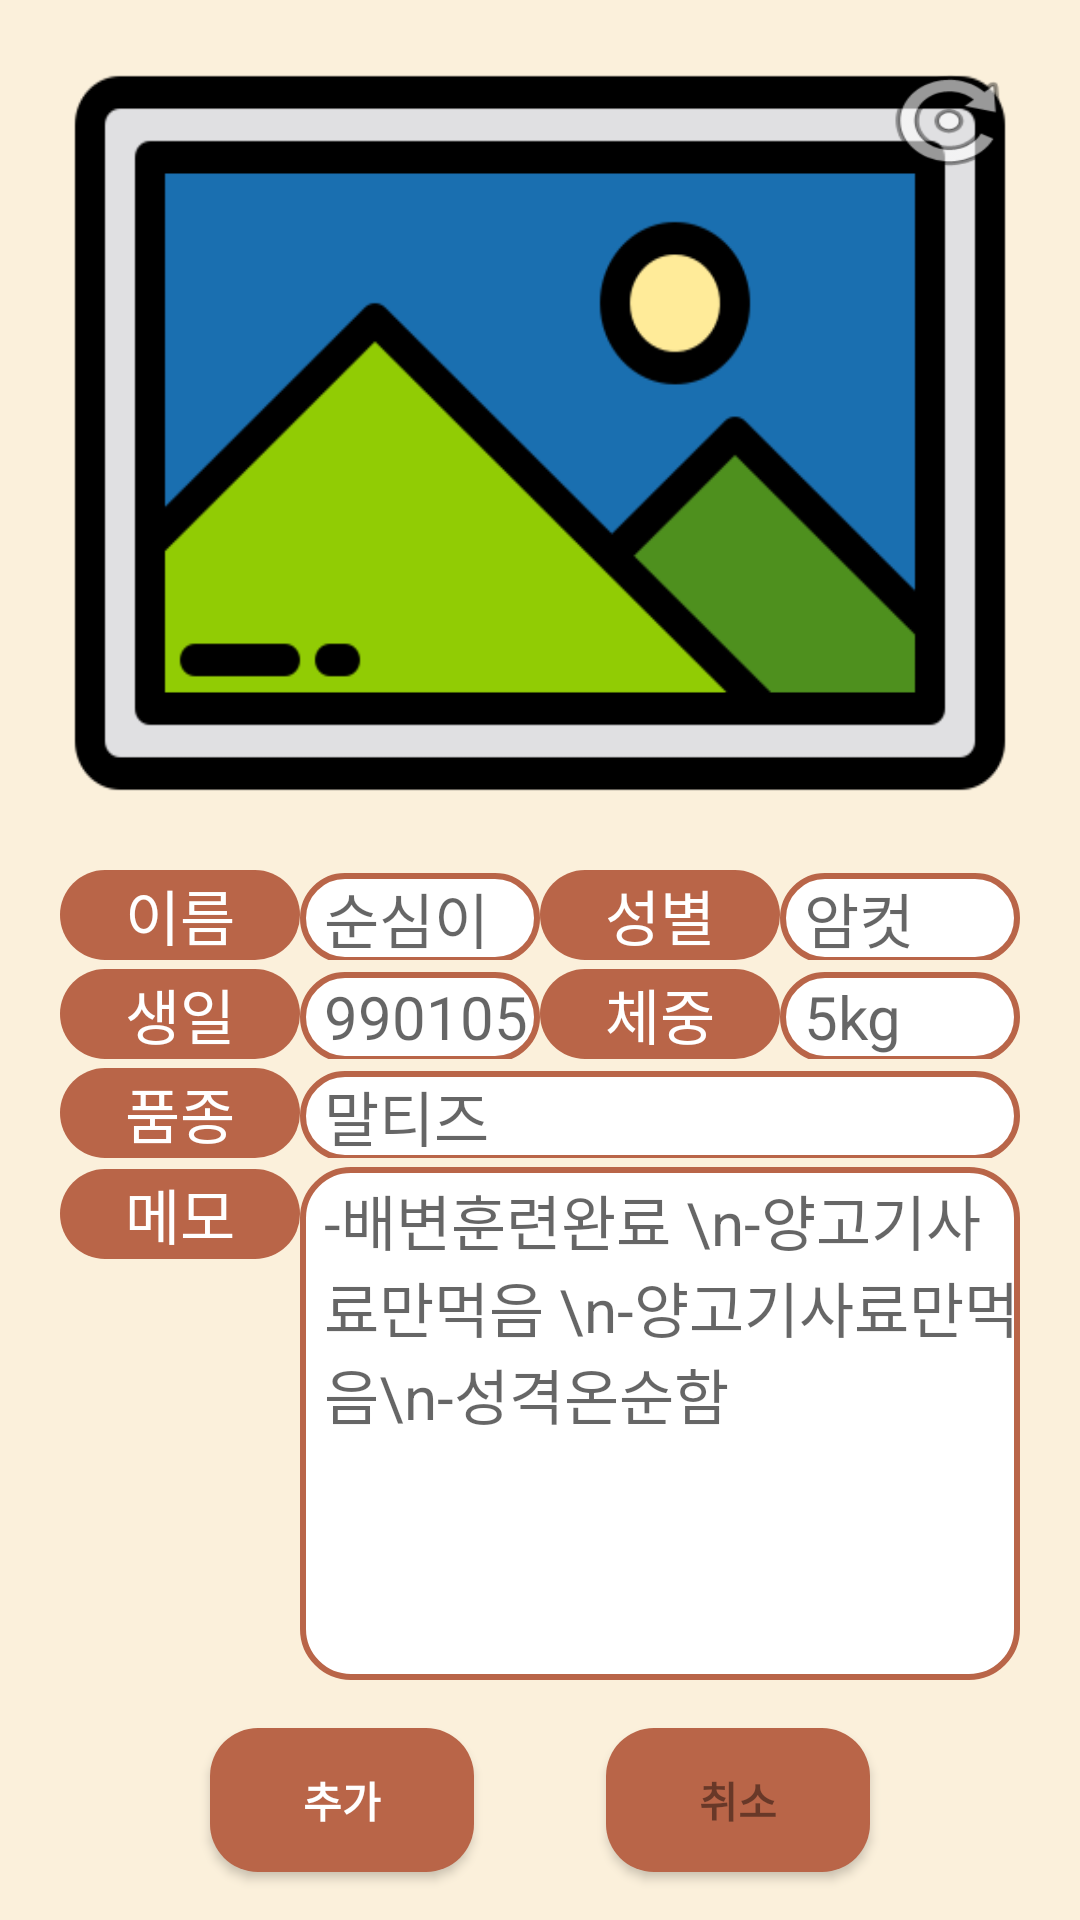

Where to tap for icons on this 1080w x 1920h app screen, as [x,y]:
rotate: [948,120]
